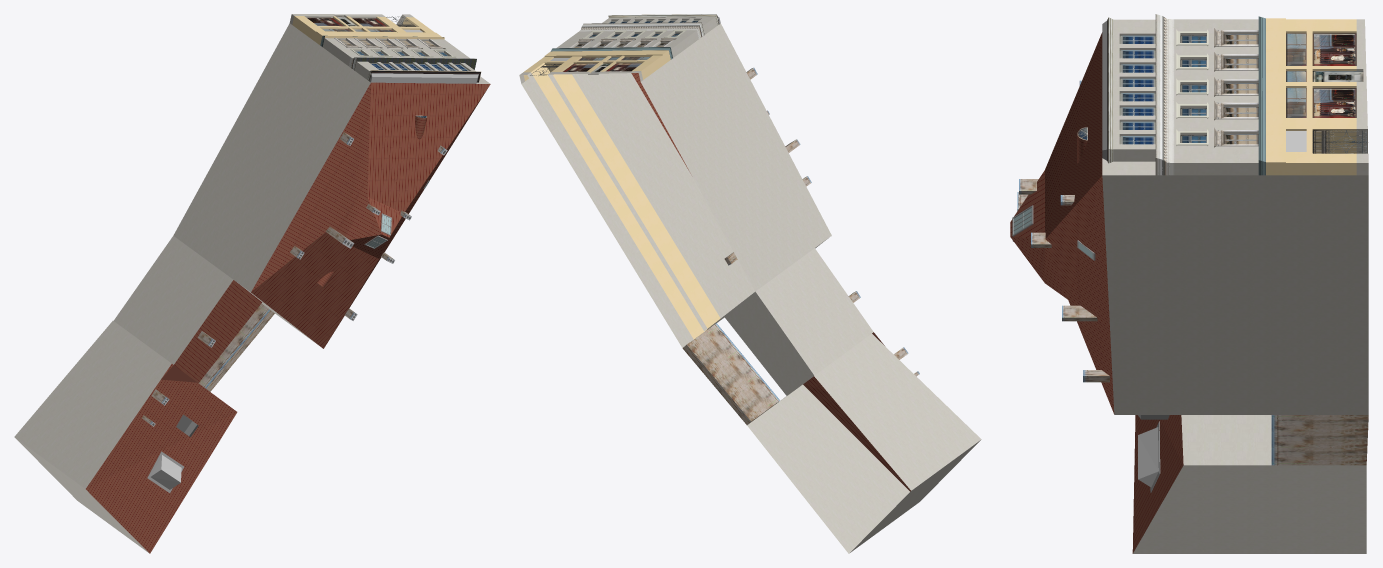
Rendered from Viru14.obj.
The picture shows the model from 3 angles, left to right: view 1: azimuth 30°, elevation 25°; view 2: azimuth 150°, elevation 25°; view 3: azimuth 270°, elevation 25°; orthographic projection. The views are drawn at different scales.
Visible parts, largest first — view 1: STUCCO; view 2: STUCCO; view 3: STUCCO.
Part boxes in pixels (box(x1,y1,x2,y2)): STUCCO: box(14, 14, 490, 553); STUCCO: box(519, 14, 981, 553); STUCCO: box(1010, 14, 1368, 553).
Size of the model in its own units: 44.36 by 46.8 by 21.46.
